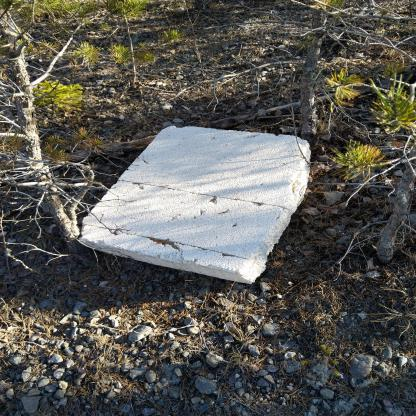kopuk: (80, 126, 313, 285)
